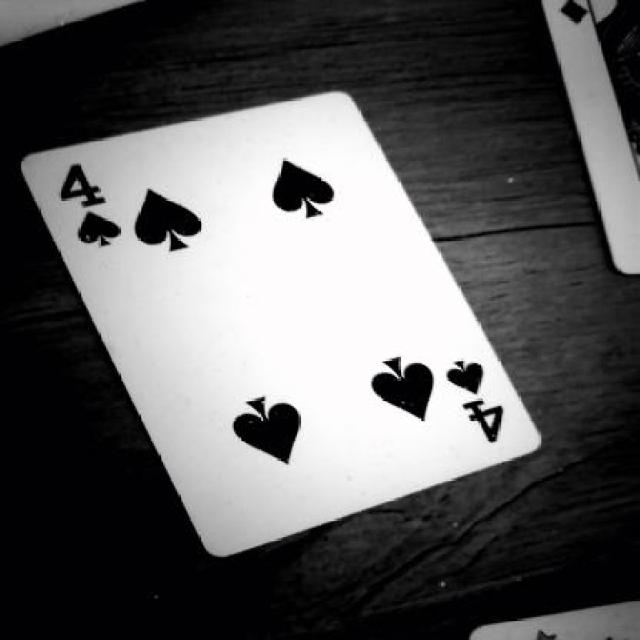4S: (423, 338, 529, 462), (40, 162, 126, 262)
